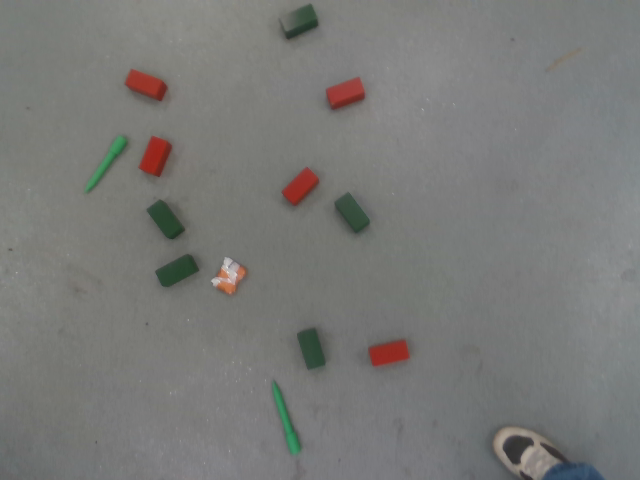Probe: (81, 133, 131, 195), (268, 377, 304, 457)
